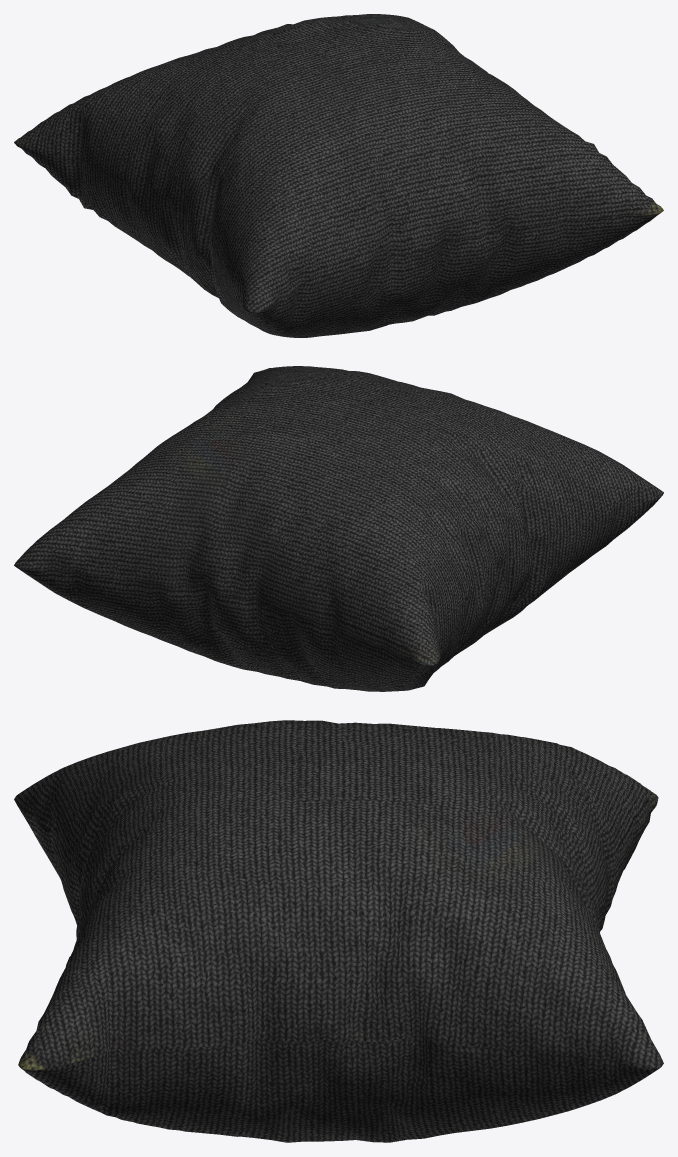
The picture shows the model from 3 angles, top to bottom: view 1: azimuth 30°, elevation 25°; view 2: azimuth 150°, elevation 25°; view 3: azimuth 270°, elevation 25°; orthographic projection. The views are drawn at different scales.
Parts seen in each view (by area): view 1: Pillow; view 2: Pillow; view 3: Pillow.
Part boxes in pixels (x1,y1,x2,y2): Pillow: (14,14,663,337); Pillow: (14,366,663,691); Pillow: (14,720,663,1142).
Size of the model in its own units: 173 by 94.62 by 171.
1 material, 1 textured.
